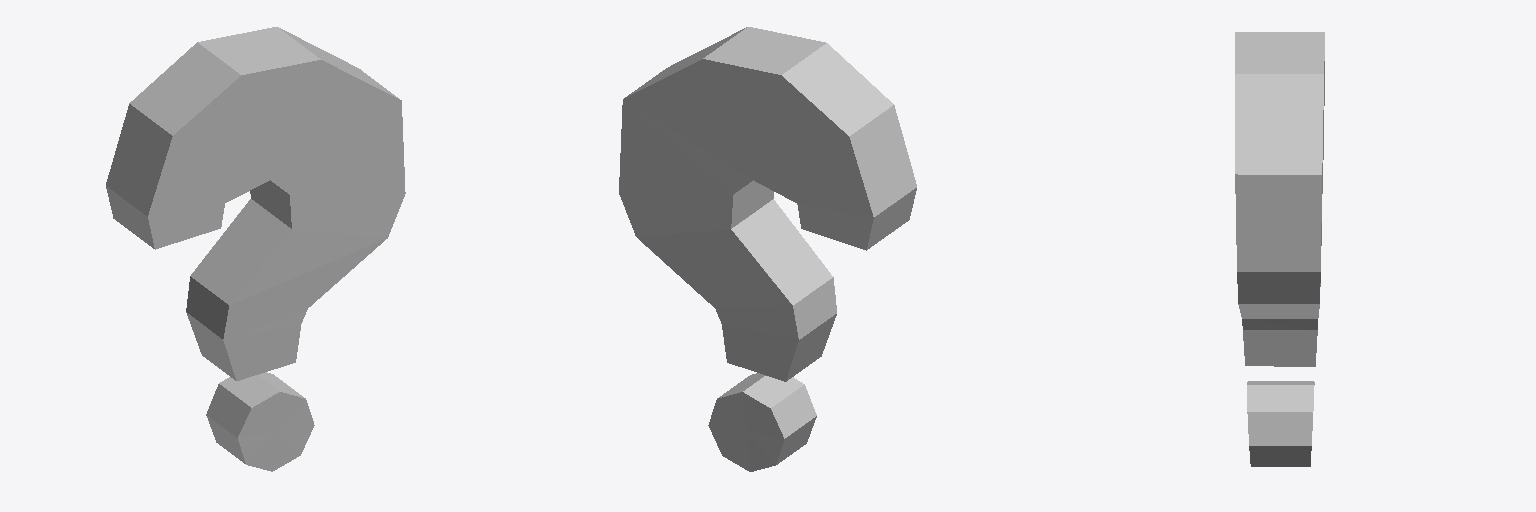
File: questionmark.obj
3 views of the same model, side by side, from view 1: azimuth 30°, elevation 25°; view 2: azimuth 150°, elevation 25°; view 3: azimuth 270°, elevation 25° (orthographic).
Visible parts, largest first — view 1: question_mark; view 2: question_mark; view 3: question_mark.
Part boxes in pixels (bbox=[...]): question_mark: bbox=[106, 27, 405, 471]; question_mark: bbox=[619, 27, 916, 471]; question_mark: bbox=[1235, 32, 1324, 466].
Bounding box in the file's own units: 0.8889 × 1.36 × 0.2709.